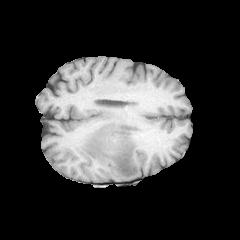glioma: (80, 121, 139, 179)
